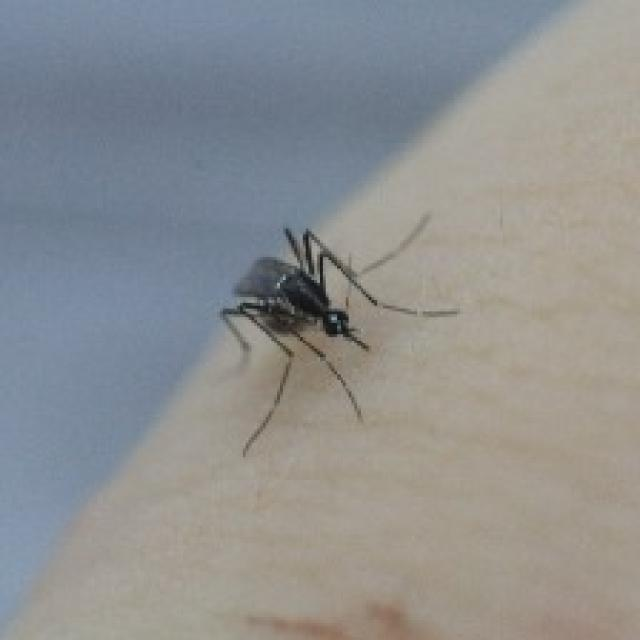aedes: (214, 209, 460, 457)
